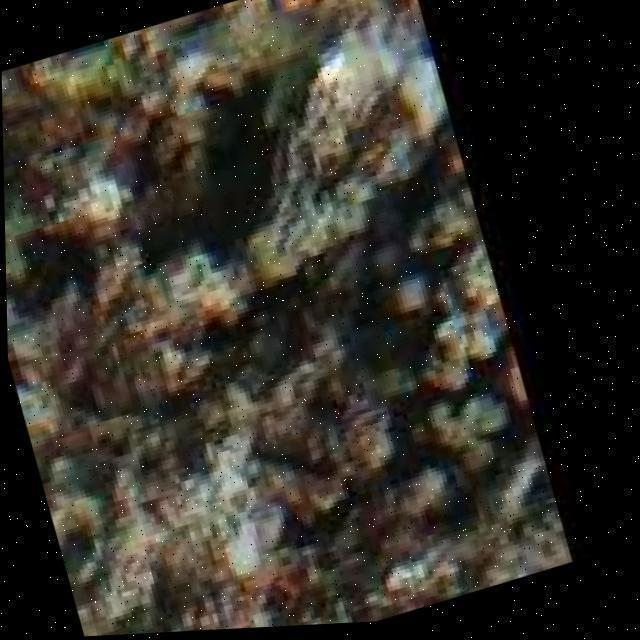Bleached Coral: (204, 0, 562, 288), (97, 374, 287, 636)
Dead Coral: (291, 298, 599, 607)
